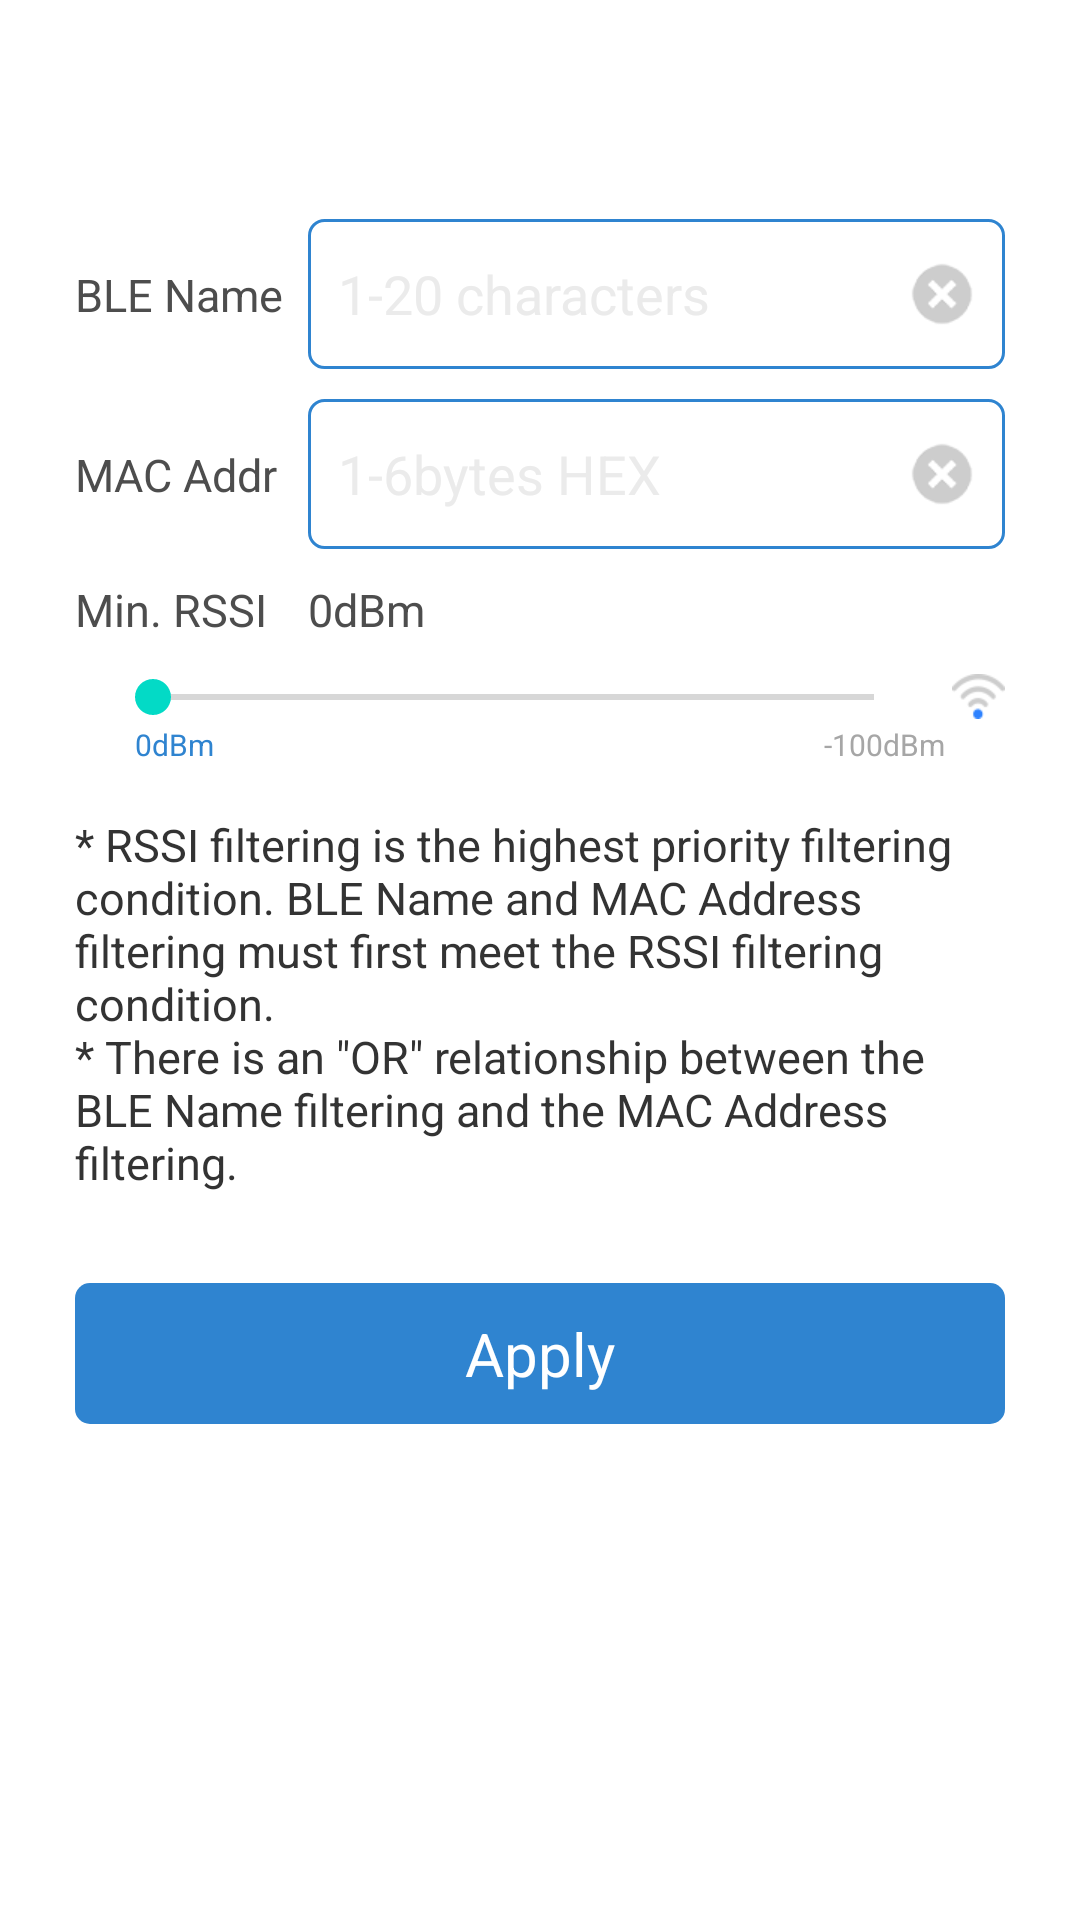

Named icons in this screenshot (1080w x 1920h) and their centers, [x,y]:
filter delete: [942,294], [942,474]
wifi weak: [978,696]
